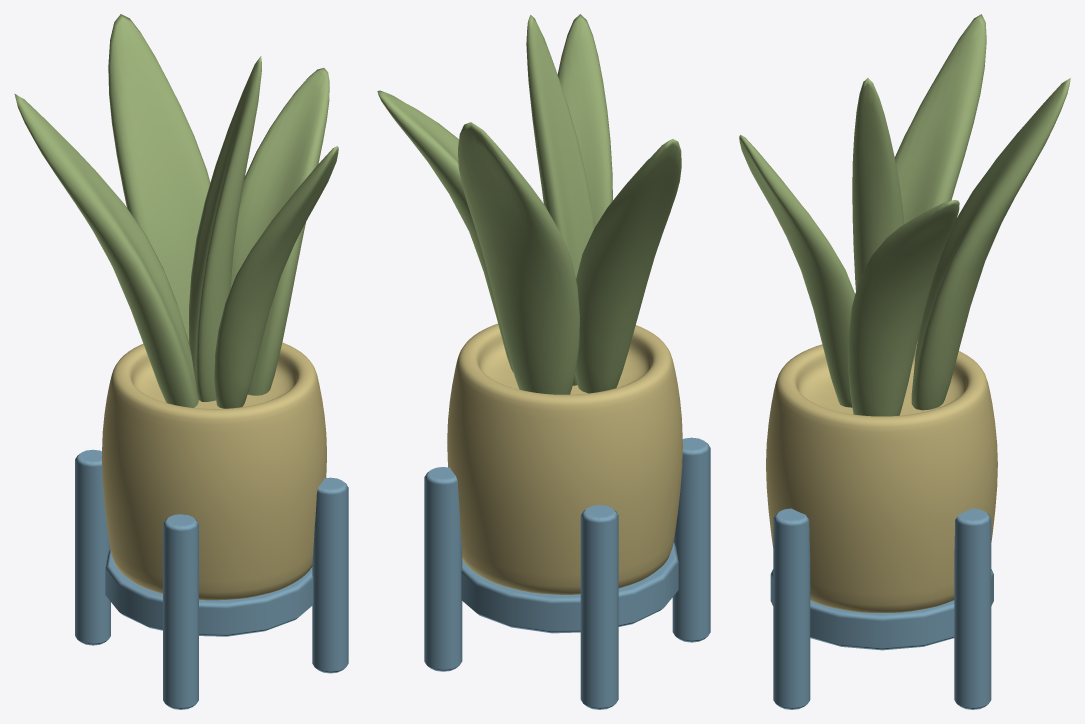
File: plant2.gltf
3 renders of one model, left to right at view 1: azimuth 30°, elevation 25°; view 2: azimuth 150°, elevation 25°; view 3: azimuth 270°, elevation 25°, orthographic. The views are drawn at different scales.
Visible parts, largest first — view 1: Cylinder 3 (×2), Cube 5, Cube 7, Cube 6, Cube 9, Cube 8, Cylinder 4, Cylinder, Cylinder 2; view 2: Cylinder 3 (×2), Cube 5, Cube 7, Cube 9, Cylinder 2, Cylinder 4, Cylinder, Cube 8, Cube 6; view 3: Cylinder 3, Cylinder 4 (×2), Cube 6, Cube 5, Cube 7, Cube 8, Cube 9, Cylinder.
Boxes of the visible parts, bbox=[...] form: Cylinder 3 (×2): bbox=[101, 342, 326, 709]; Cube 5: bbox=[108, 14, 210, 341]; Cube 7: bbox=[14, 93, 198, 407]; Cube 6: bbox=[230, 68, 329, 395]; Cube 9: bbox=[189, 56, 261, 401]; Cube 8: bbox=[214, 146, 338, 408]; Cylinder 4: bbox=[312, 477, 348, 673]; Cylinder: bbox=[105, 549, 313, 636]; Cylinder 2: bbox=[75, 449, 110, 645]; Cylinder 3 (×2): bbox=[447, 323, 710, 642]; Cube 5: bbox=[458, 122, 579, 394]; Cube 7: bbox=[575, 139, 681, 393]; Cube 9: bbox=[526, 15, 594, 385]; Cylinder 2: bbox=[580, 505, 618, 709]; Cylinder 4: bbox=[424, 467, 462, 671]; Cylinder: bbox=[461, 542, 678, 633]; Cube 8: bbox=[557, 14, 612, 226]; Cube 6: bbox=[377, 90, 513, 372]; Cylinder 3: bbox=[766, 341, 997, 613]; Cylinder 4 (×2): bbox=[773, 508, 991, 709]; Cube 6: bbox=[848, 200, 959, 416]; Cube 5: bbox=[911, 78, 1070, 410]; Cube 7: bbox=[895, 14, 986, 223]; Cube 8: bbox=[739, 135, 855, 407]; Cube 9: bbox=[852, 78, 904, 290]; Cylinder: bbox=[770, 569, 993, 650].
Size of the model in its own units: 2.28 by 4.34 by 2.14.
